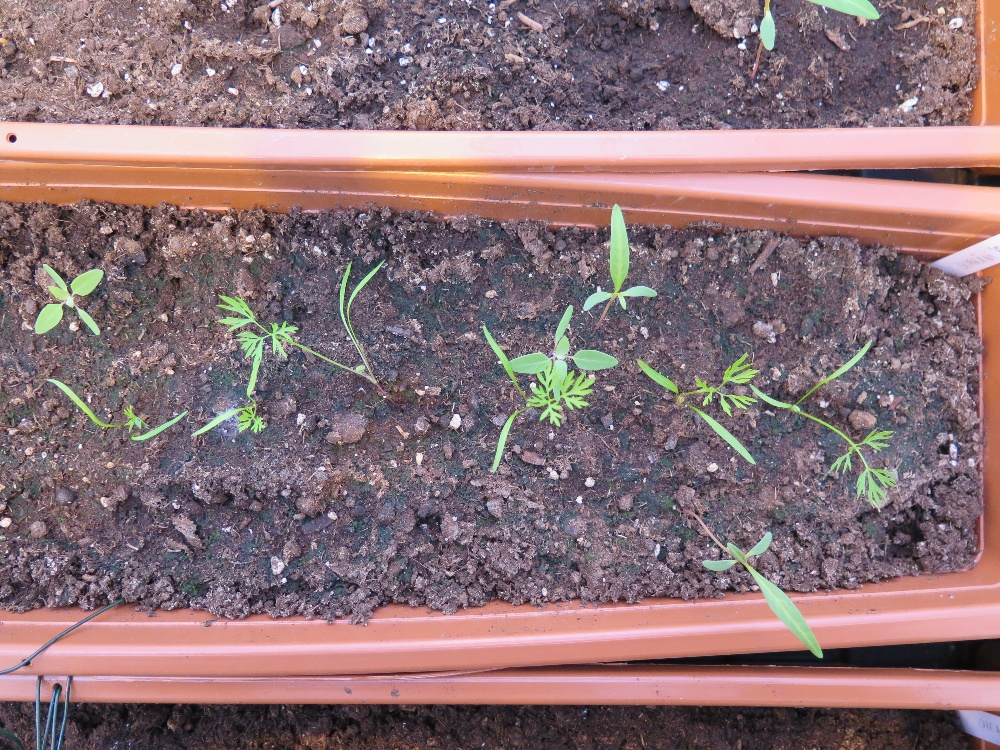crop: (213, 253, 403, 410), (747, 335, 899, 514), (472, 303, 624, 473), (630, 344, 757, 471), (43, 375, 189, 441)
weed: (699, 527, 823, 660), (581, 200, 657, 312), (33, 262, 105, 336)
